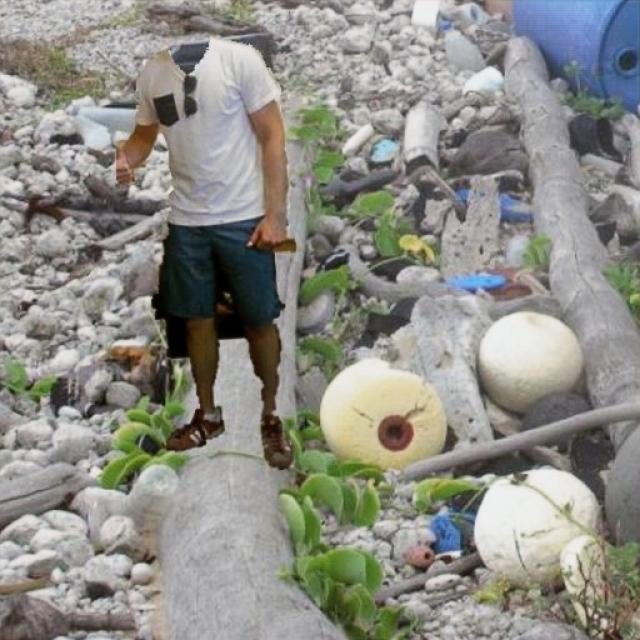Person in Rubble: (116, 36, 295, 469)
